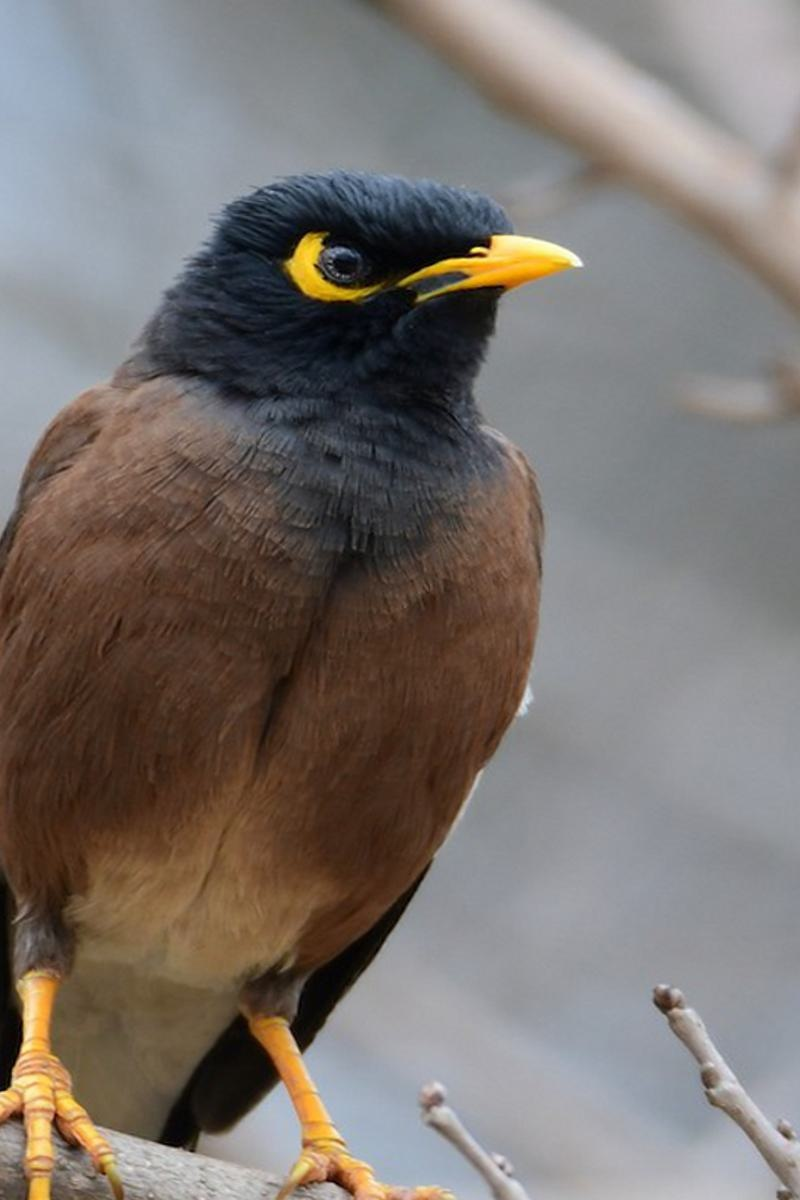myna: (1, 150, 639, 1200)
